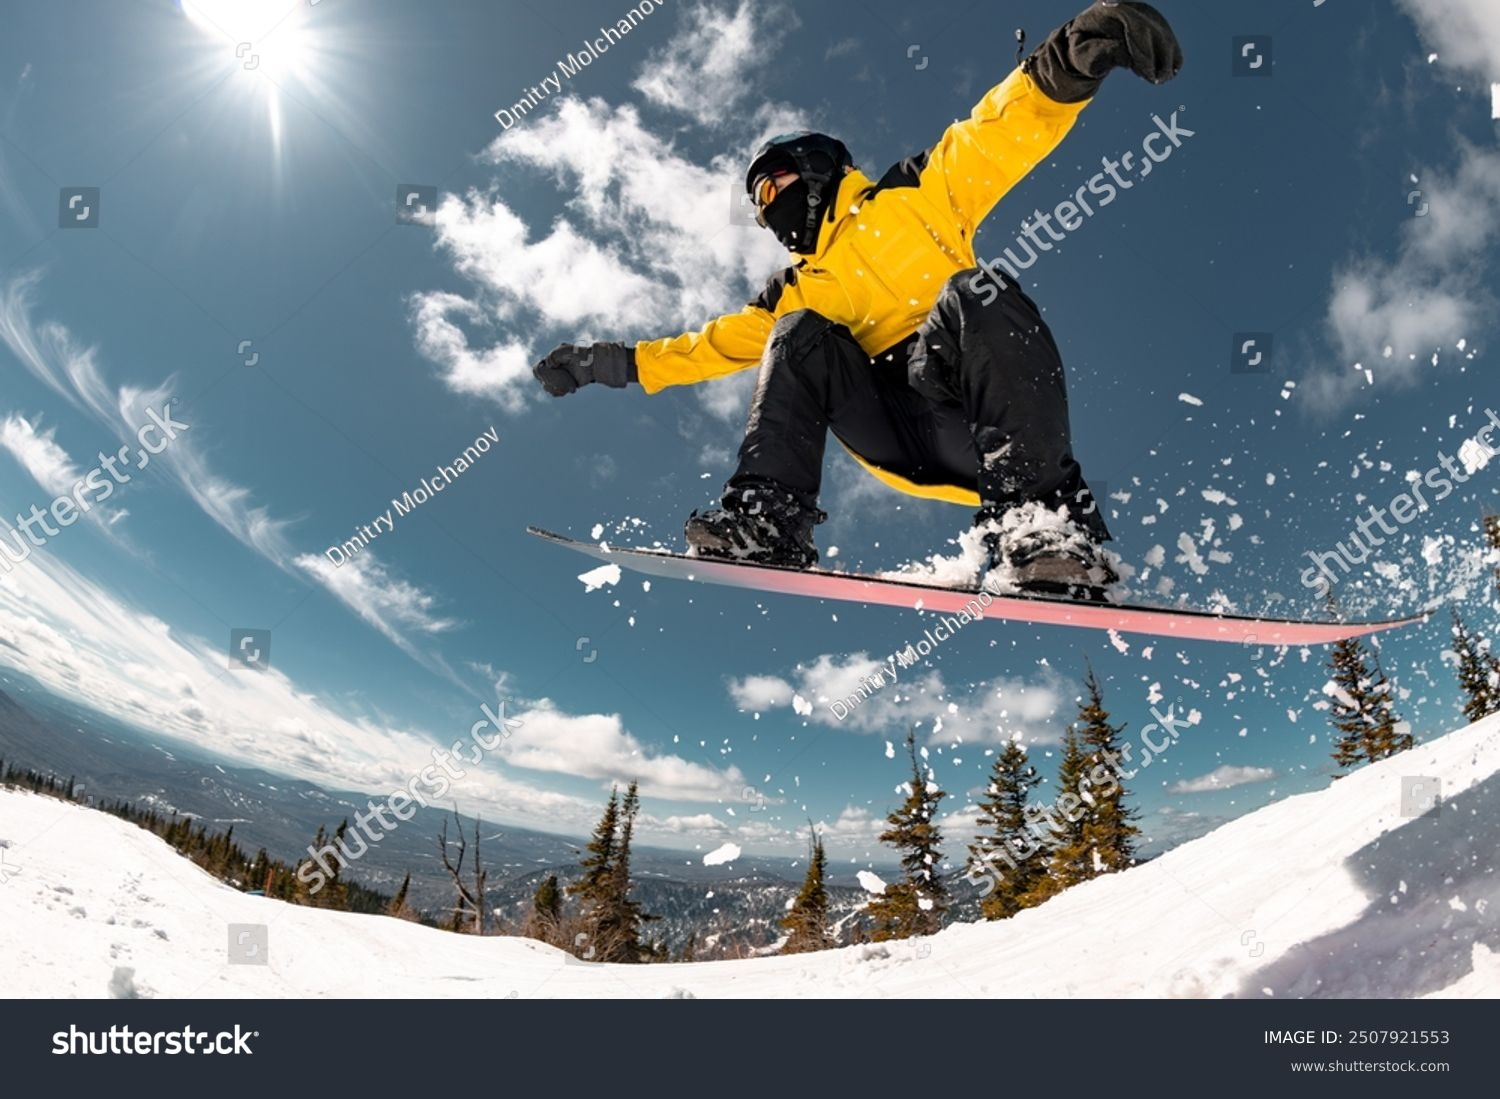snowboarder: (521, 0, 1436, 669)
